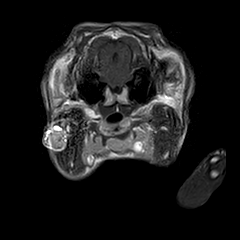Brain: (66, 9, 165, 107)
